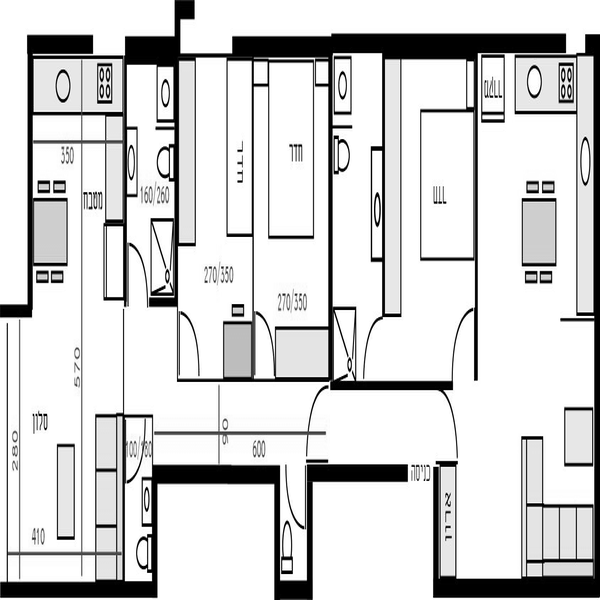door: (168, 314, 211, 384), (250, 309, 283, 383), (447, 304, 479, 379), (276, 462, 311, 530), (124, 238, 156, 307), (117, 413, 146, 486)
room: (475, 31, 600, 591), (171, 24, 337, 389), (330, 21, 487, 392), (3, 299, 154, 600), (147, 377, 479, 490), (17, 22, 130, 304)
wall: (231, 31, 567, 56), (468, 54, 486, 378), (325, 56, 338, 389), (435, 575, 600, 599), (149, 457, 282, 484), (300, 461, 326, 598), (25, 31, 38, 303), (588, 32, 600, 322), (170, 64, 182, 304), (117, 64, 129, 302), (312, 460, 407, 484), (27, 31, 95, 64), (148, 464, 164, 595), (330, 378, 455, 394), (121, 35, 180, 66), (432, 460, 444, 600), (272, 463, 280, 600), (268, 580, 317, 599), (2, 301, 32, 318)
